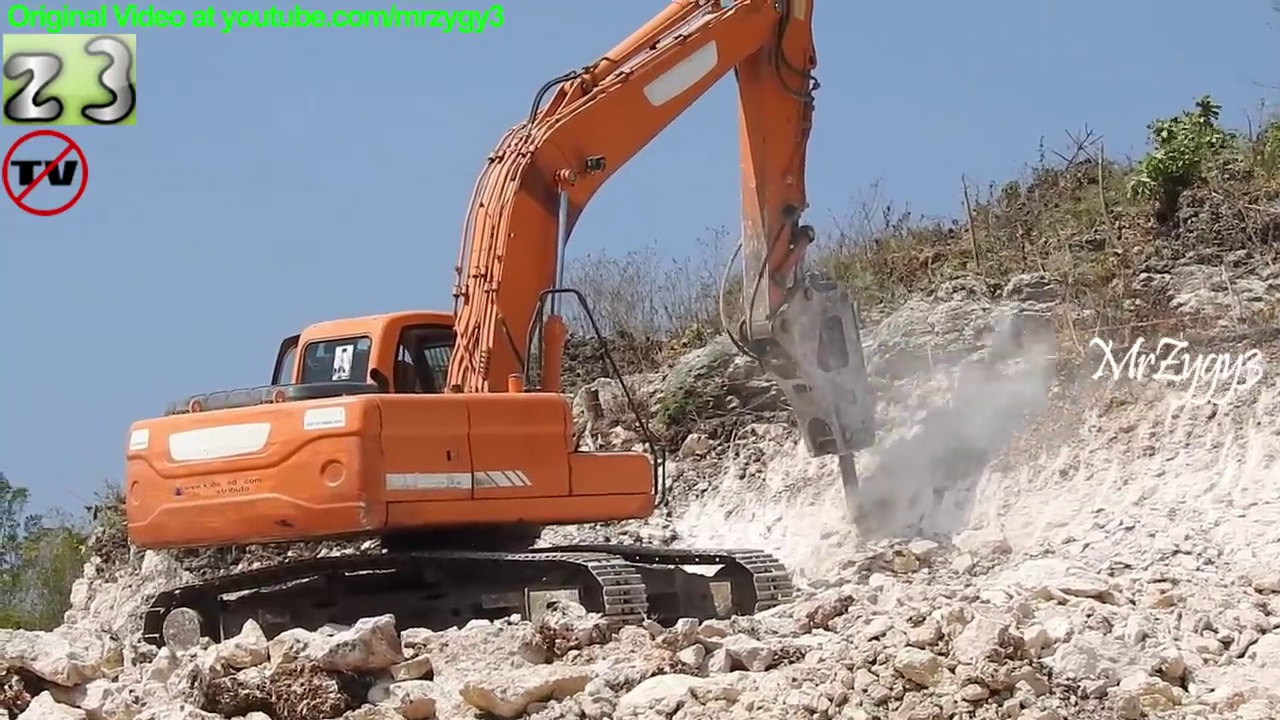excavator: (123, 1, 886, 658)
